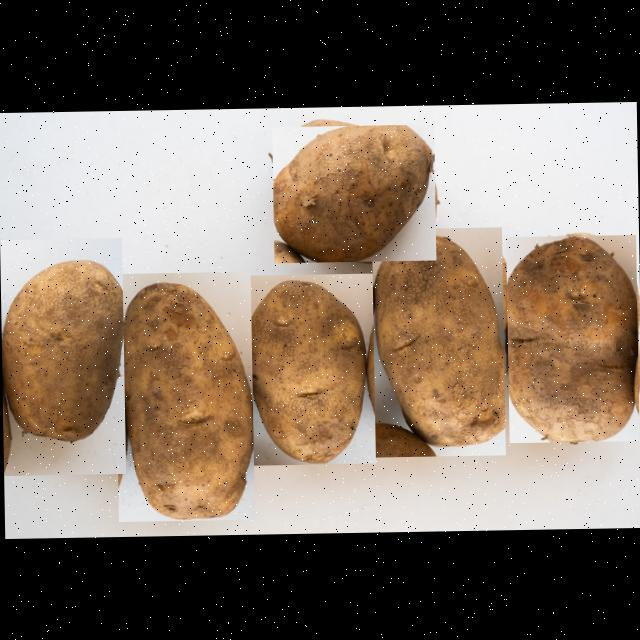Potato: (114, 272, 254, 522), (370, 227, 504, 457), (0, 237, 124, 475), (504, 234, 638, 443), (243, 273, 374, 465), (271, 124, 435, 263)
